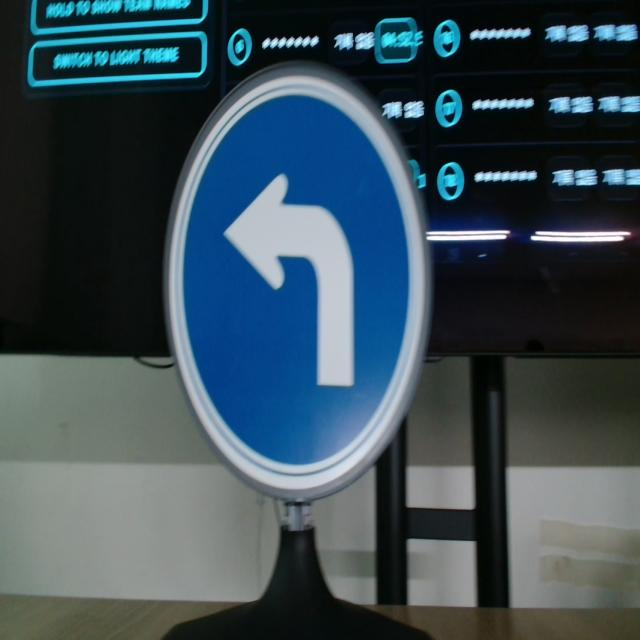left_direction: (160, 42, 442, 524)
